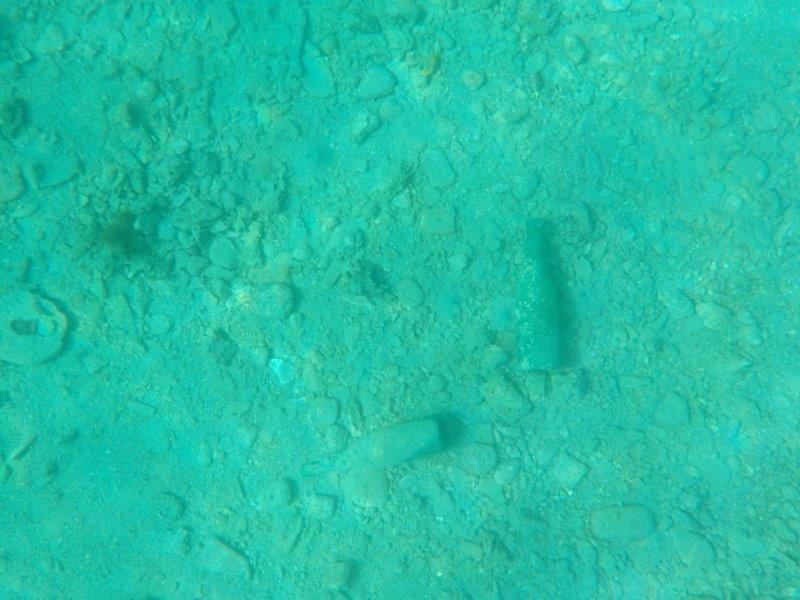bottle: (299, 412, 449, 484), (509, 214, 566, 377)
